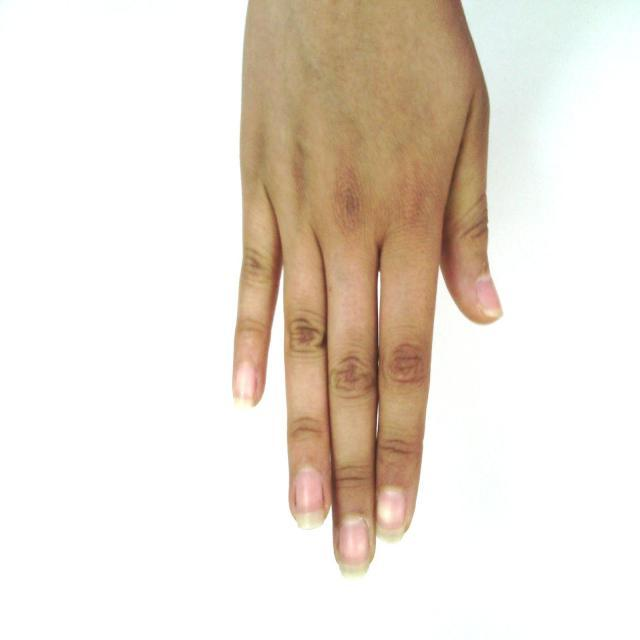Fingernail: (338, 517, 370, 576), (296, 467, 325, 529), (377, 487, 405, 541), (235, 362, 257, 407), (478, 276, 502, 317)
